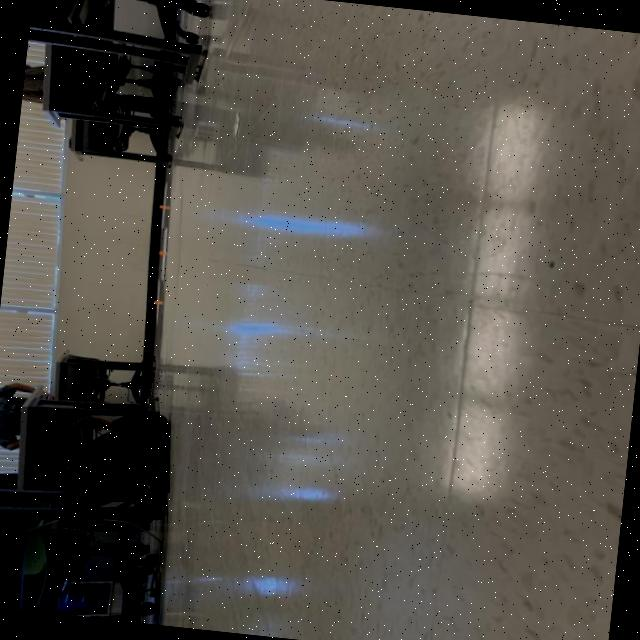ping-pong-ball: (152, 298, 158, 304), (158, 249, 164, 254), (158, 204, 164, 208)
